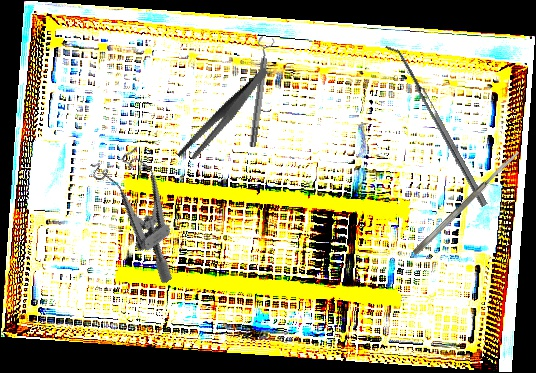Dressing Forceps: (161, 66, 287, 166)
Fixation Ring: (242, 35, 277, 149)
Spatula Surgical: (384, 39, 488, 211), (411, 149, 522, 257)
Speculum: (79, 136, 213, 285)
